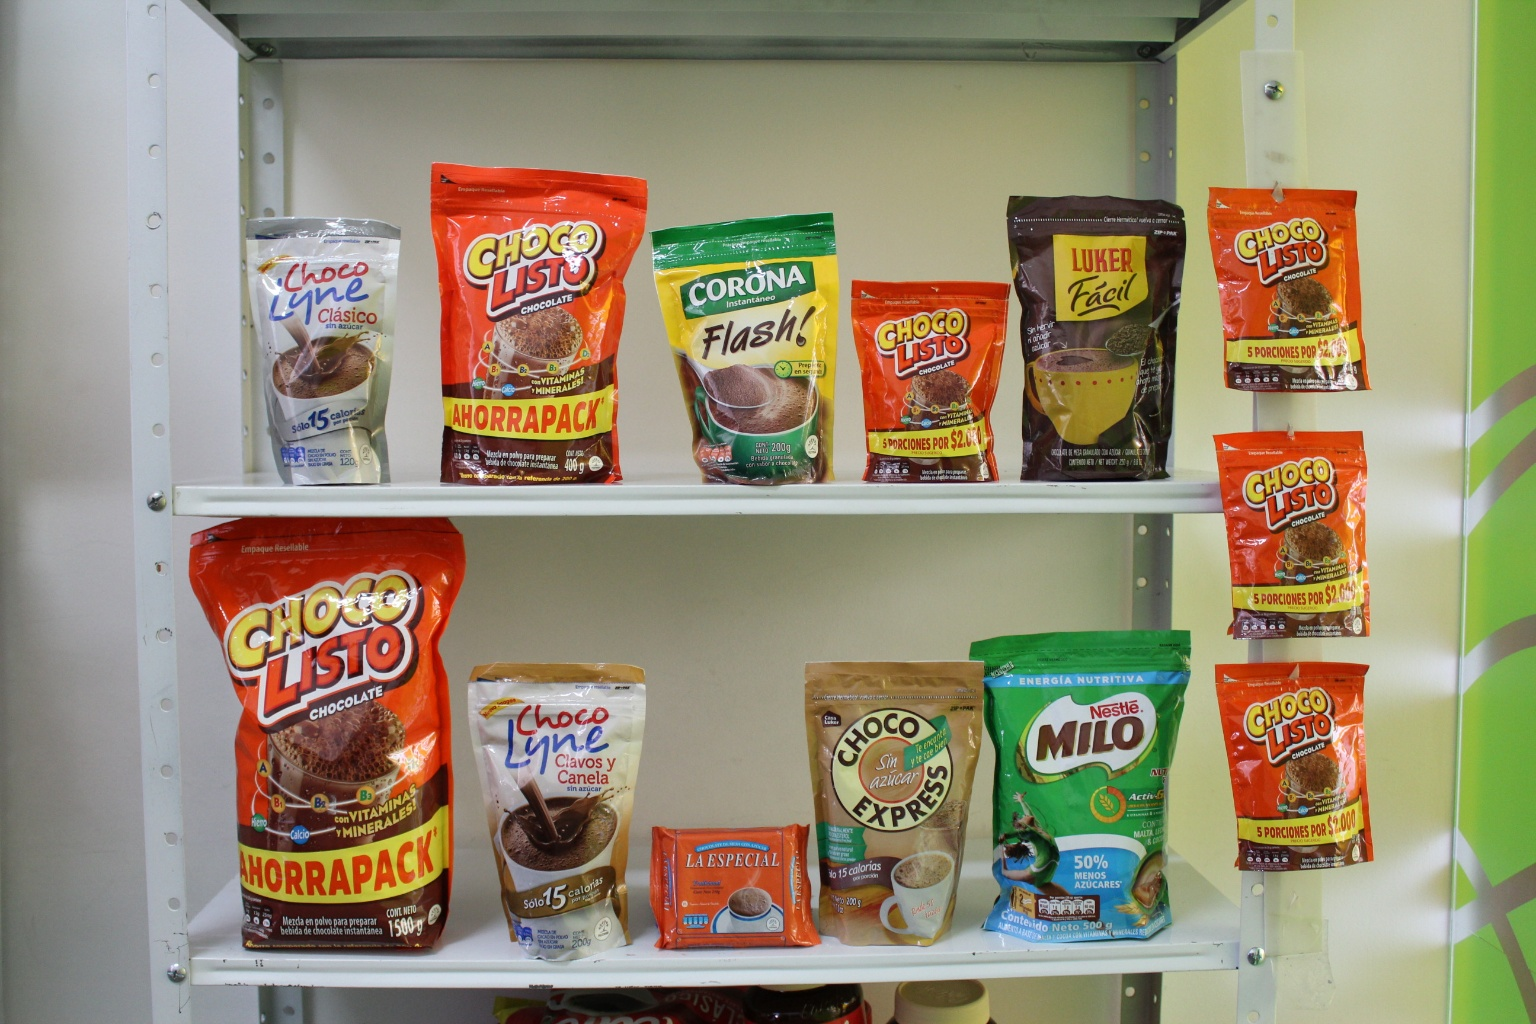COL0170103DYP1,500: (179, 509, 471, 963)
COL0170103DYP10000: (1197, 651, 1377, 875)
COL0170103DYP40000: (427, 142, 658, 488)
COL0170205DYP50000: (969, 626, 1199, 939)
